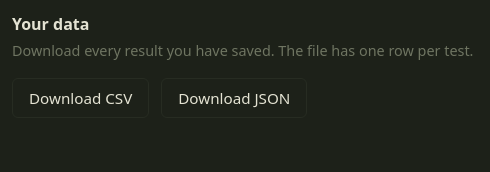
Test case: DataExport › shows a rate-limit message on 429
Click the button "Download CSV". click: [81, 98]
box: [12, 78, 149, 118]
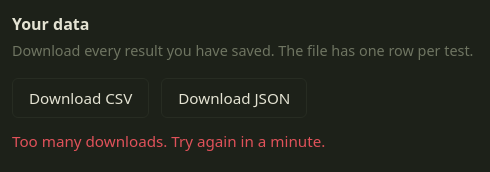
Result: the message reads "Too many downloads. Try again in a minute." at [12, 131, 325, 151]
